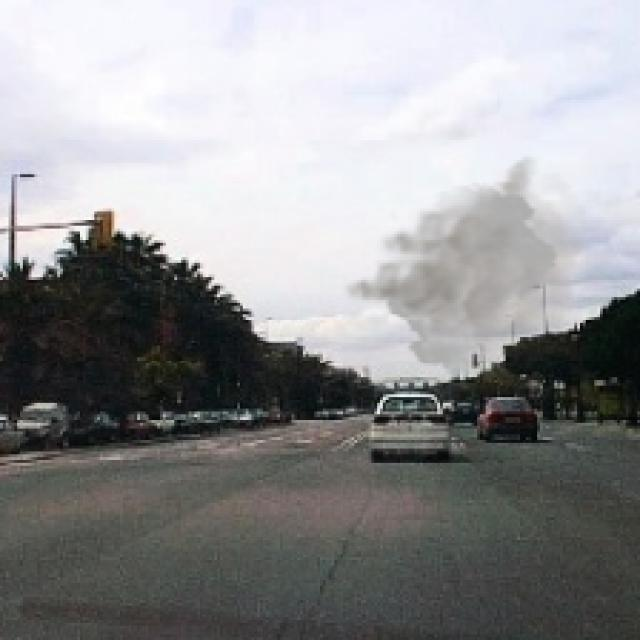Smoke: (337, 154, 592, 377)
